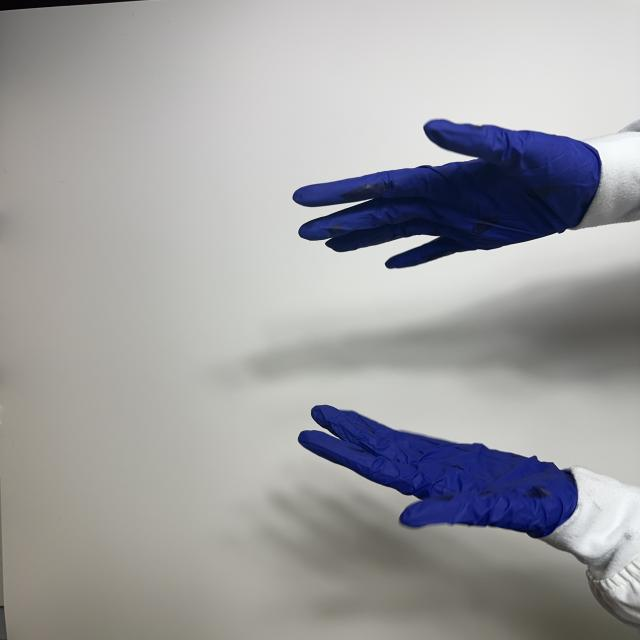gloves_contaminated: (293, 120, 604, 268), (299, 406, 577, 537)
